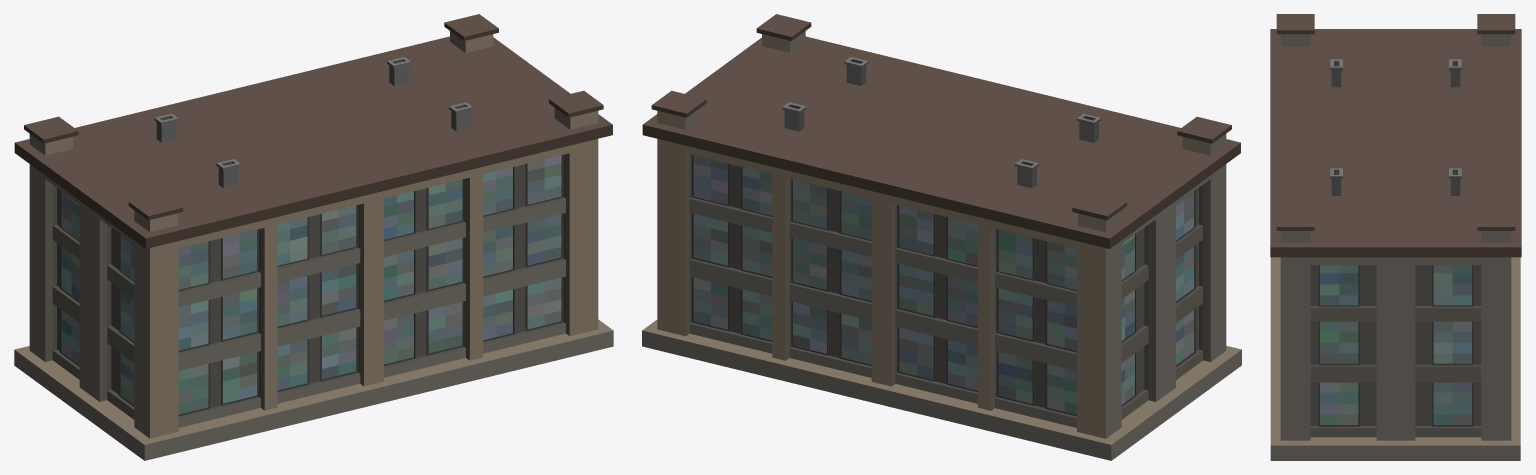
File: Industrial_Factory_alt03.glb
3 views of the same model, side by side, from view 1: azimuth 30°, elevation 25°; view 2: azimuth 150°, elevation 25°; view 3: azimuth 270°, elevation 25° (orthographic). The views are drawn at different scales.
Parts seen in each view (by area): view 1: base.010, windowRefl.007; view 2: base.010, windowRefl.007; view 3: base.010, windowRefl.007.
Part boxes in pixels (<box>): base.010: <box>14,14,613,460</box>; windowRefl.007: <box>61,155,561,414</box>; base.010: <box>642,14,1241,460</box>; windowRefl.007: <box>693,155,1194,414</box>; base.010: <box>1270,14,1521,460</box>; windowRefl.007: <box>1320,265,1471,424</box>.
Size of the model in its own units: 48.35 by 23.98 by 23.42.
